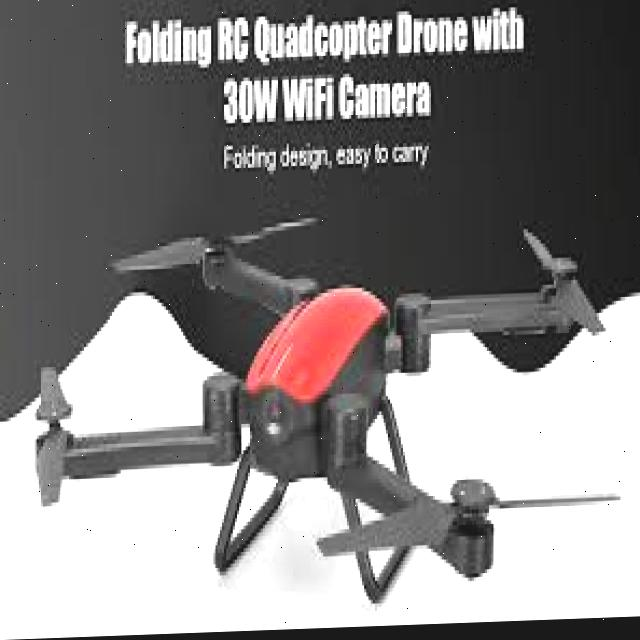drone: (31, 196, 630, 638)
